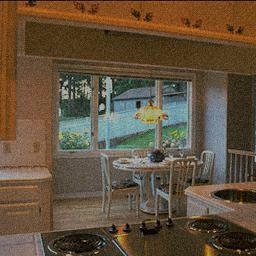Electrodomestico: (39, 225, 255, 254)
